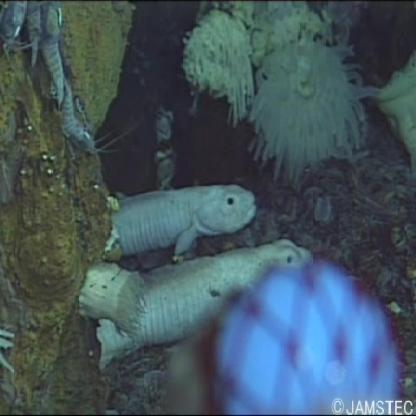Bio: (68, 179, 316, 371), (245, 35, 389, 190), (0, 1, 116, 158)
